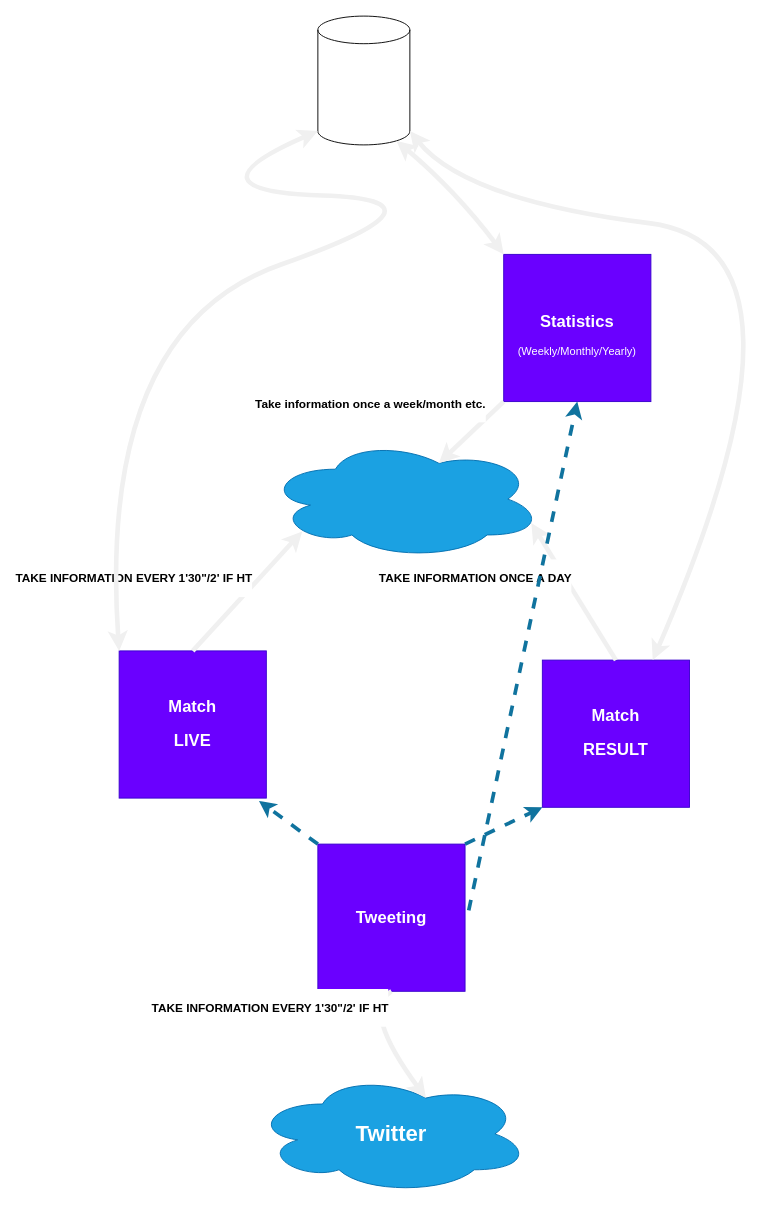
Image size: 762x1210. Some labels were removed from this diagram. The box of each missing label's shape, as (x1, y1, x2, y2) in pixels:
API-FOOTBALL: (265, 438, 542, 559)
MongoDb For backup data if the app crashes: (317, 15, 410, 145)
